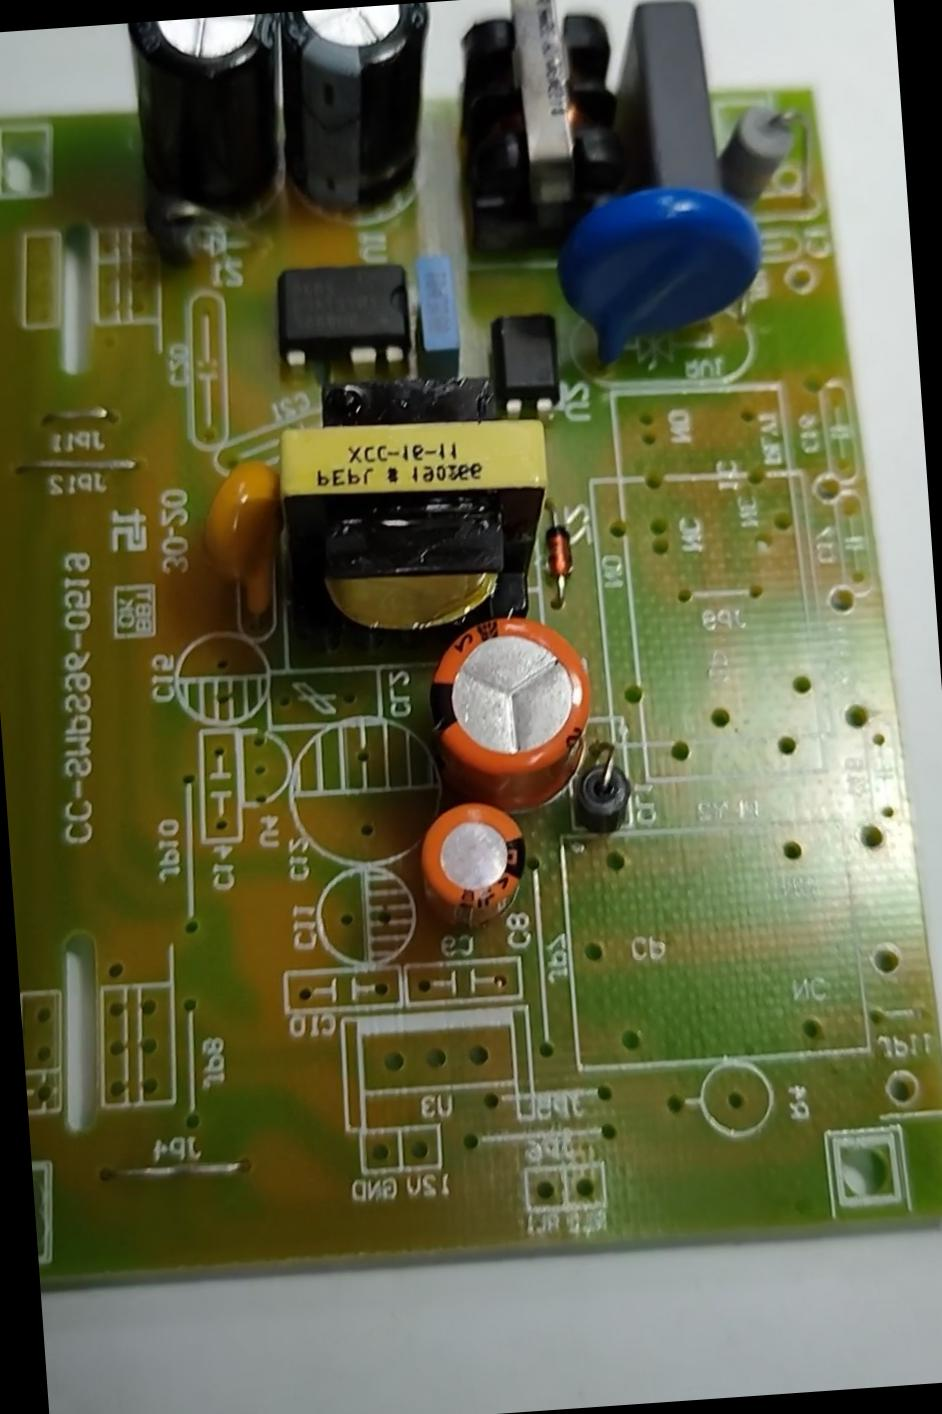Cap1: (412, 606, 602, 802)
Cap2: (403, 790, 548, 936)
Cap3: (116, 13, 307, 269)
Cap4: (255, 2, 443, 224)
MOSFET: (266, 243, 441, 390)
Mov: (513, 165, 795, 409)
Resistor: (701, 86, 819, 222)
Transformer: (249, 390, 565, 690), (445, 0, 636, 293)
